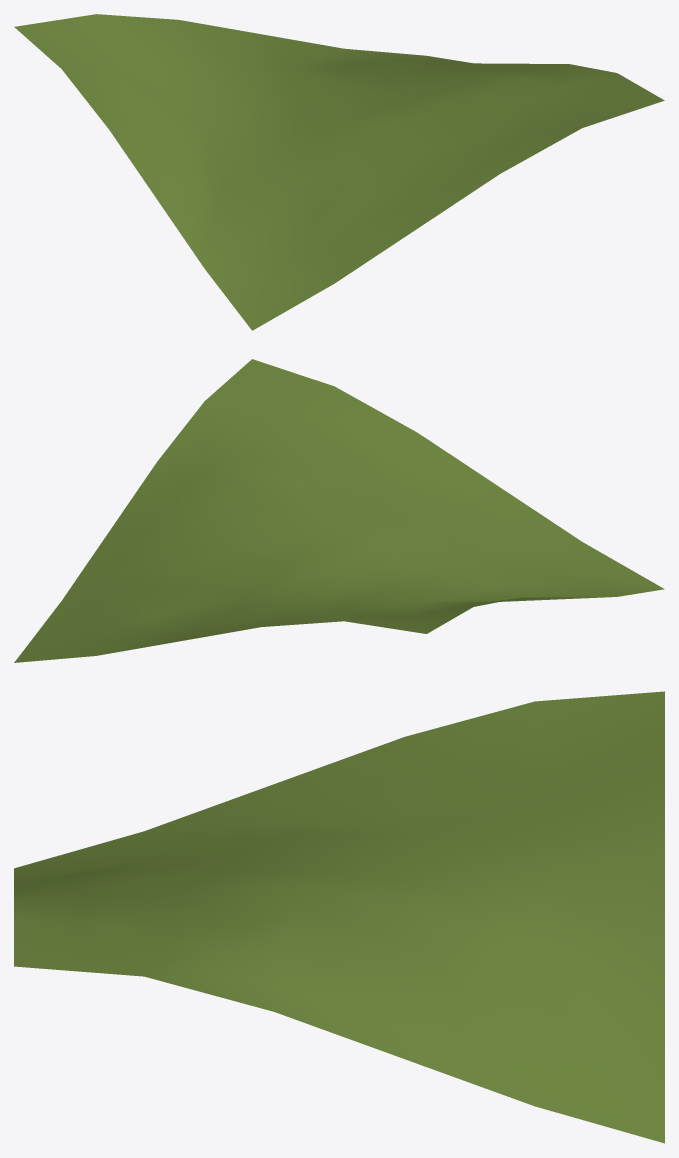
The model's file is rpgpp_ag_terrain_hill_01d_10x10m_3-3-3-3m.fbx.
3 renders of one model, top to bottom at view 1: azimuth 30°, elevation 25°; view 2: azimuth 150°, elevation 25°; view 3: azimuth 270°, elevation 25°, orthographic. The views are drawn at different scales.
Parts seen in each view (by area): view 1: rpgpp_ag_terrain_hill_01d_10x10m_3-3-3-3m; view 2: rpgpp_ag_terrain_hill_01d_10x10m_3-3-3-3m; view 3: rpgpp_ag_terrain_hill_01d_10x10m_3-3-3-3m.
Boxes of the visible parts, x1,y1,x2,y2 form: rpgpp_ag_terrain_hill_01d_10x10m_3-3-3-3m: (14,14,664,330); rpgpp_ag_terrain_hill_01d_10x10m_3-3-3-3m: (14,359,664,662); rpgpp_ag_terrain_hill_01d_10x10m_3-3-3-3m: (14,691,664,1143).
Size of the model in its own units: 10 by 3 by 10.
